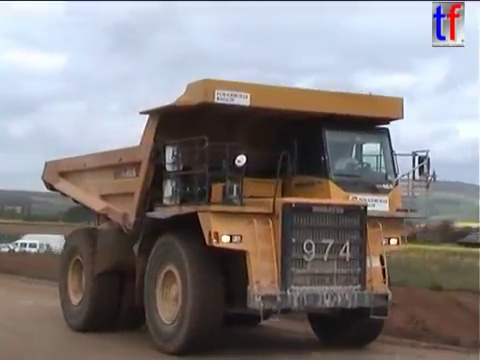truck: (38, 75, 439, 357)
